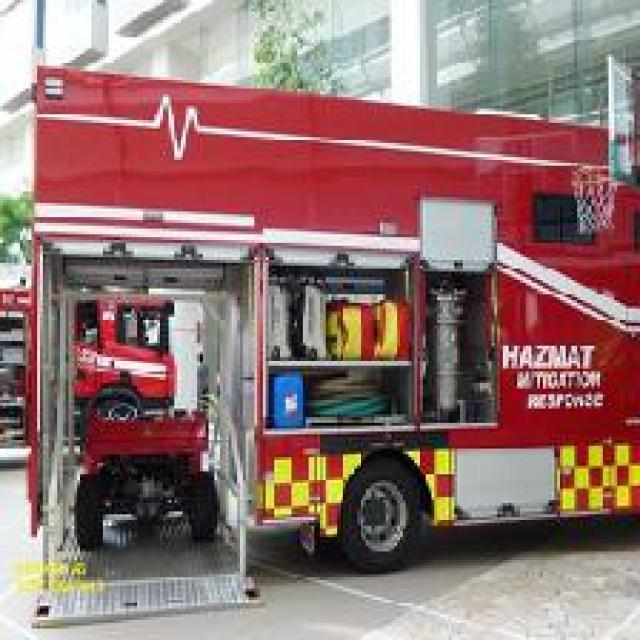Fire-truck: (17, 57, 637, 574)
